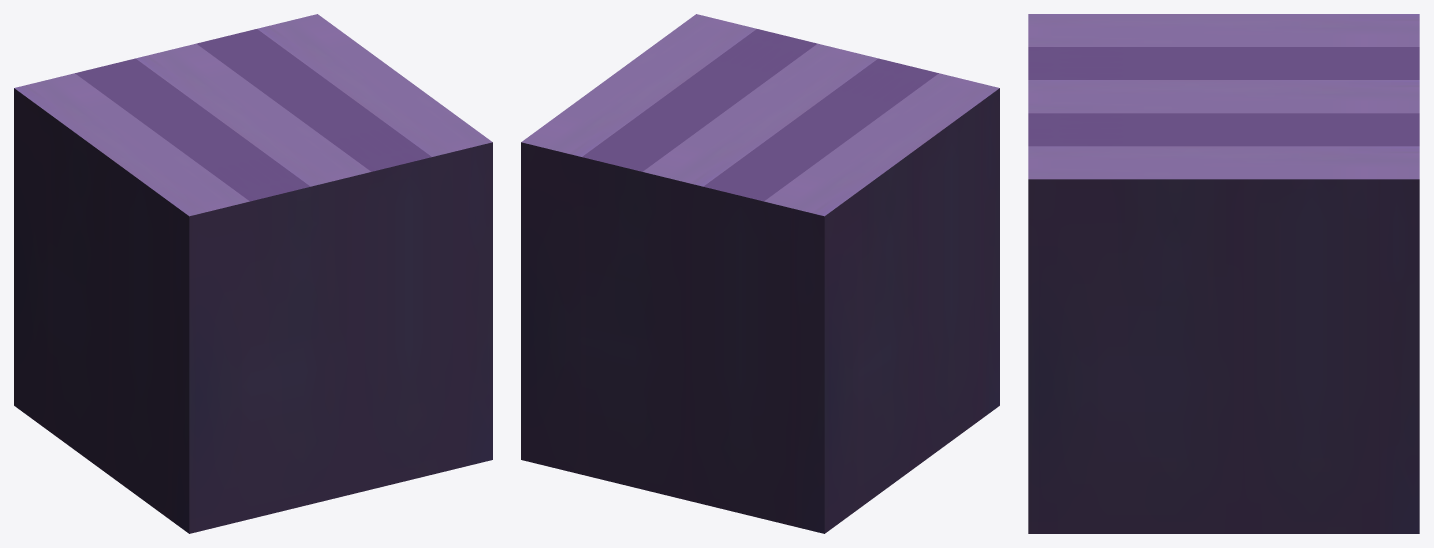
3 views of the same model, side by side, from view 1: azimuth 30°, elevation 25°; view 2: azimuth 150°, elevation 25°; view 3: azimuth 270°, elevation 25° (orthographic). The views are drawn at different scales.
Visible parts, largest first — view 1: Cube_011; view 2: Cube_011; view 3: Cube_011.
Part boxes in pixels (x1,y1,x2,y2): Cube_011: (14, 14, 492, 533); Cube_011: (521, 14, 999, 533); Cube_011: (1028, 14, 1419, 533).
Bounding box in the file's own units: 24 × 24 × 24.
